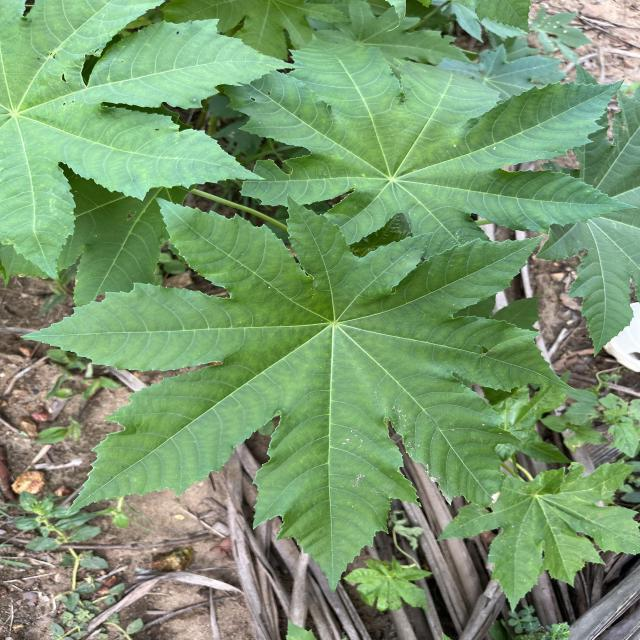Ricinus communis linn: (12, 192, 580, 597), (216, 30, 640, 264)
